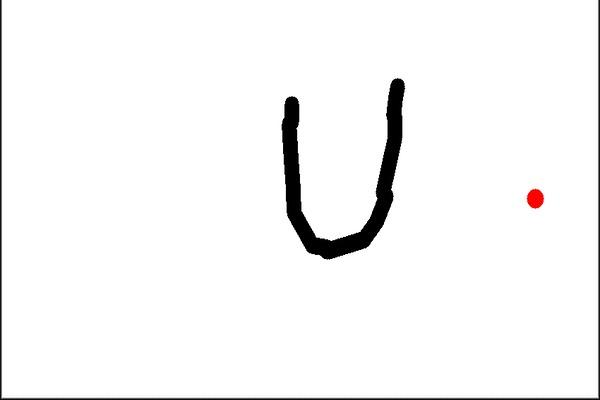U: (270, 63, 417, 258)
